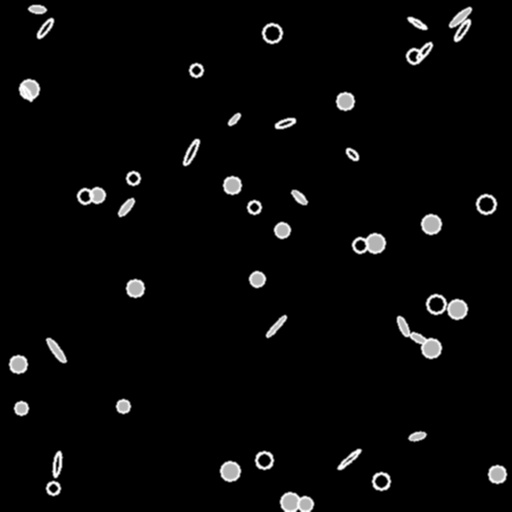pseudomonas: (45, 336, 67, 364), (336, 448, 362, 470), (448, 6, 472, 28), (182, 138, 200, 166), (265, 315, 287, 337), (452, 18, 472, 42), (36, 17, 54, 39), (117, 197, 135, 217), (415, 41, 433, 61), (395, 315, 411, 337), (290, 188, 308, 206), (274, 116, 296, 130), (407, 16, 427, 30), (344, 146, 360, 162), (409, 331, 427, 345), (52, 452, 62, 476), (21, 84, 33, 102), (227, 112, 241, 126), (408, 431, 426, 441), (29, 5, 45, 13)
synechocystis: (448, 300, 466, 318), (281, 493, 299, 511), (366, 234, 384, 252), (422, 215, 440, 233), (427, 295, 445, 313), (263, 24, 281, 42), (20, 80, 38, 98), (477, 195, 495, 213), (221, 462, 239, 480), (422, 339, 440, 357), (224, 177, 240, 193), (489, 466, 505, 482), (337, 93, 353, 109), (373, 473, 389, 489), (256, 452, 272, 468), (127, 280, 143, 296), (10, 356, 26, 372), (90, 188, 104, 202), (407, 49, 421, 63), (250, 272, 264, 286), (78, 189, 92, 203), (353, 238, 367, 252), (275, 223, 289, 237), (298, 497, 312, 511), (127, 172, 139, 184), (190, 64, 202, 76), (117, 400, 129, 412), (47, 482, 59, 494), (15, 402, 27, 414), (248, 201, 260, 213)
